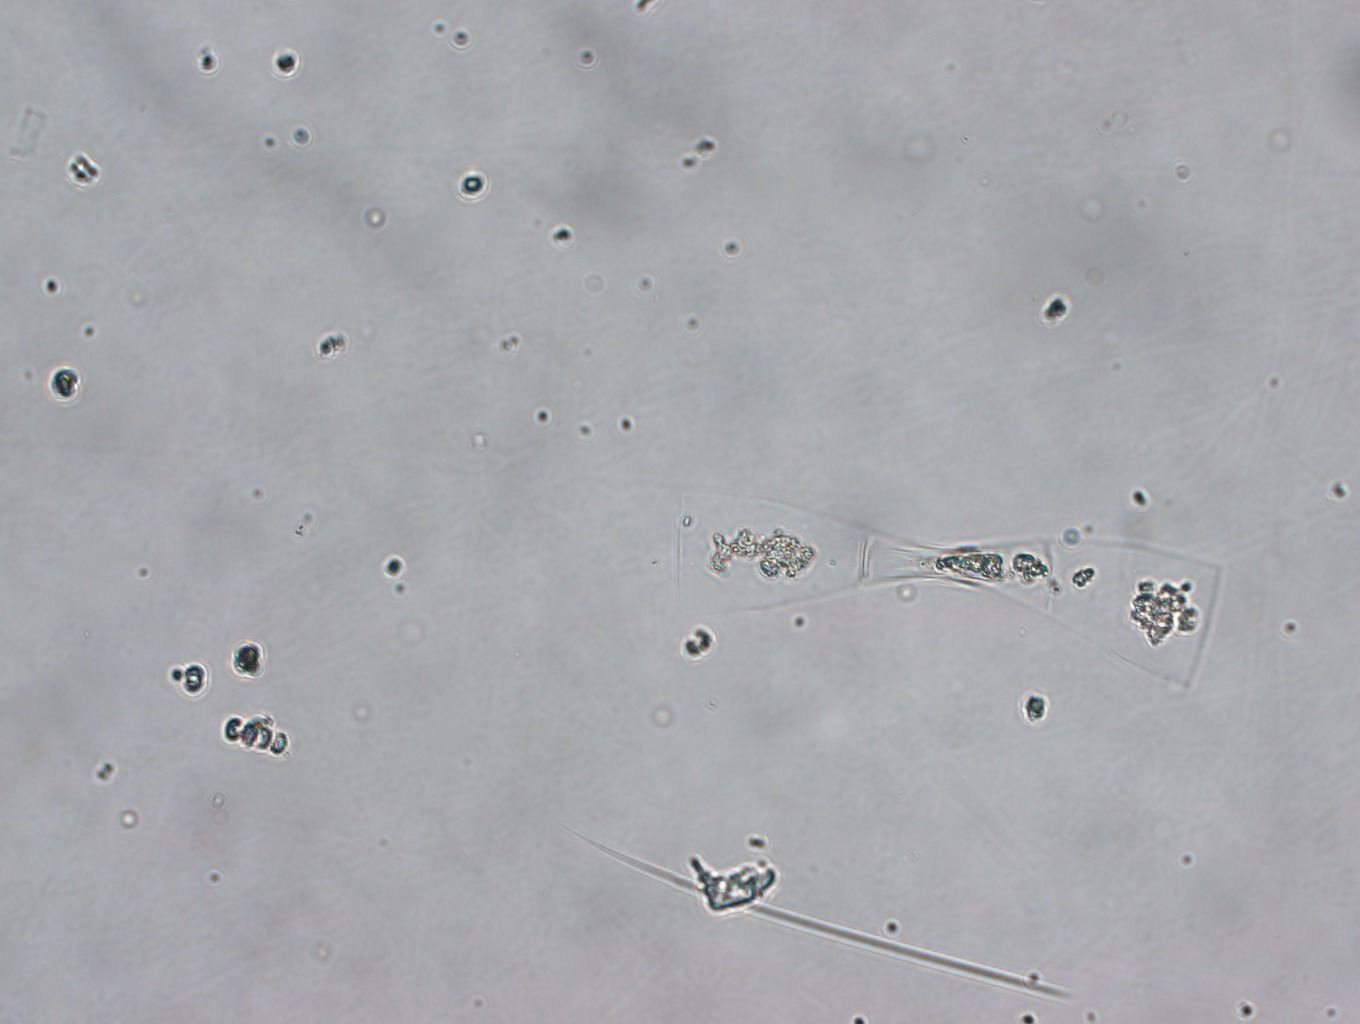helicotheca: (663, 469, 1229, 701)
